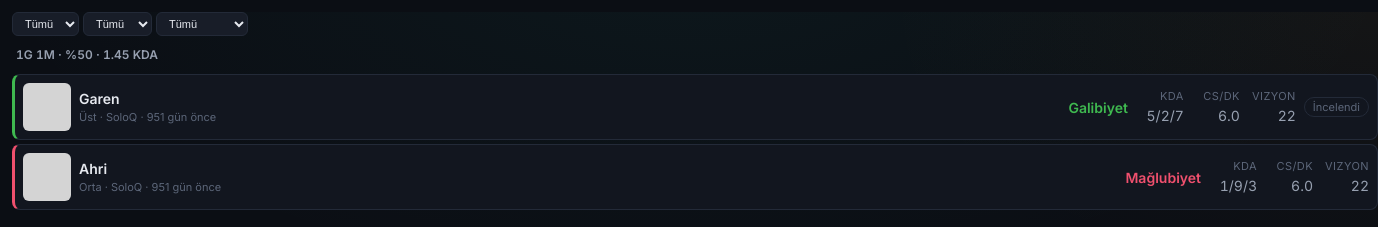
Test: MatchHistoryView › shows a record/WR/KDA summary that reflects the active filters (Slice 4)
This screenshot has width=1378, height=227.
Check: the list is shown, box [12,74,1377,210]
Check: the text "1G 1M · %50 · 1.45 KDA" is shown, box [16,47,158,62]
Select "Galibiyet" in the dropdown named "Sonuç" at coordinates (202, 24), box [156,12,248,36]
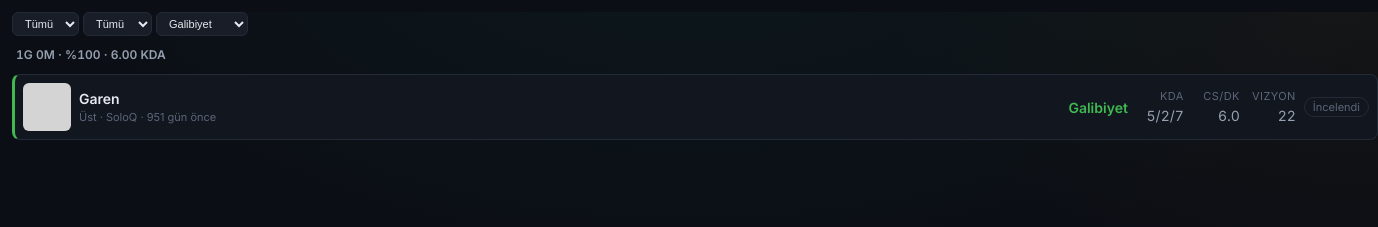
Check: the text "1G 0M · %100 · 6.00 KDA" is shown, box [16,47,166,62]
